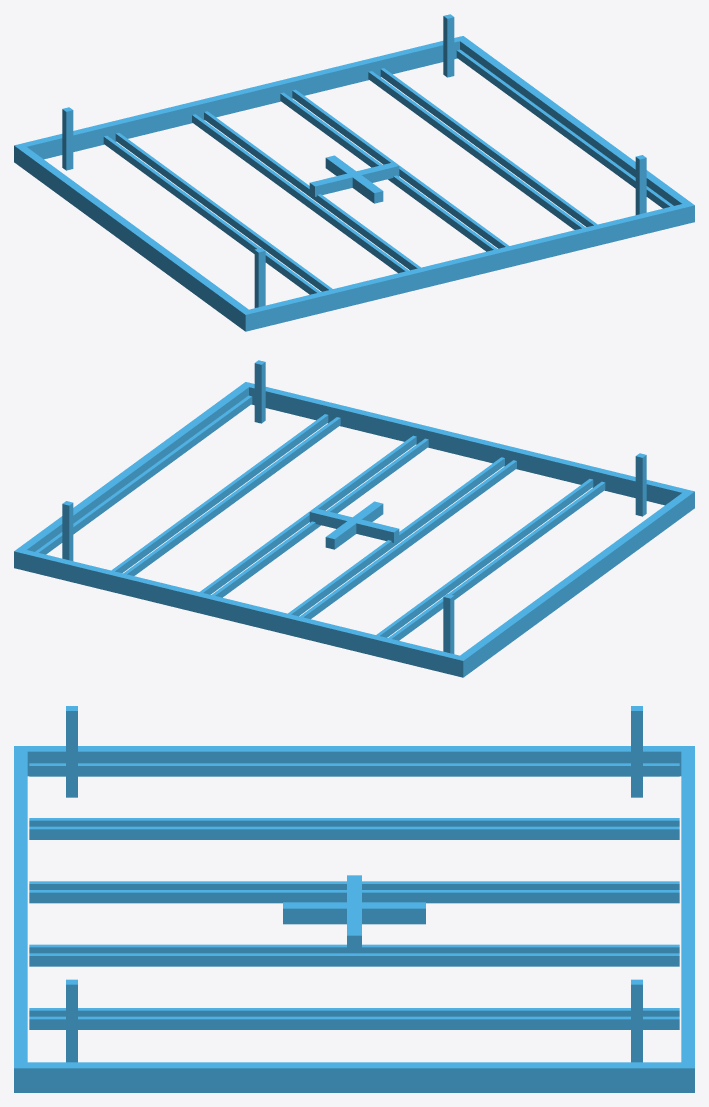
Rendered from slot-ghost.glb.
3 renders of one model, top to bottom at view 1: azimuth 30°, elevation 25°; view 2: azimuth 150°, elevation 25°; view 3: azimuth 270°, elevation 25°, orthographic. The views are drawn at different scales.
Parts seen in each view (by area): view 1: GEO-Rim-Y, GEO-Rim-Y.001, GEO-Rim-X, GEO-Rim-X.001, GEO-Plank-guide.002, GEO-Plank-guide.007, GEO-Plank-guide.008, GEO-Plank-guide.003, GEO-Plank-guide.004, GEO-Plank-guide.001, GEO-Plank-guide.006, GEO-Plank-guide.009 (+7 smaller); view 2: GEO-Rim-Y.001, GEO-Rim-Y, GEO-Rim-X, GEO-Rim-X.001, GEO-Plank-guide.002, GEO-Plank-guide.007, GEO-Plank-guide.008, GEO-Plank-guide.003, GEO-Plank-guide.004, GEO-Plank-guide.001, GEO-Plank-guide.006, GEO-Plank-guide.009 (+7 smaller); view 3: GEO-Rim-X.001, GEO-Rim-X, GEO-Plank-guide.002, GEO-Plank-guide.006, GEO-Plank-guide, GEO-Plank-guide.008, GEO-Plank-guide.004, GEO-Plank-guide.005, GEO-Plank-guide.001, GEO-Plank-guide.003, GEO-Plank-guide.007, GEO-Rim-Y (+7 smaller).
Part boxes in pixels (<box>): GEO-Rim-Y: <box>241,202,694,330</box>; GEO-Rim-Y.001: <box>14,36,466,164</box>; GEO-Rim-X: <box>14,144,253,331</box>; GEO-Rim-X.001: <box>455,36,694,222</box>; GEO-Plank-guide.002: <box>115,133,332,291</box>; GEO-Plank-guide.007: <box>368,71,585,229</box>; GEO-Plank-guide.008: <box>380,68,597,226</box>; GEO-Plank-guide.003: <box>192,114,408,273</box>; GEO-Plank-guide.004: <box>204,111,420,270</box>; GEO-Plank-guide.001: <box>103,135,320,294</box>; GEO-Plank-guide.006: <box>292,89,508,248</box>; GEO-Plank-guide.009: <box>456,49,673,208</box>; GEO-Rim-Y.001: <box>14,548,467,677</box>; GEO-Rim-Y: <box>243,382,694,511</box>; GEO-Rim-X: <box>455,490,694,677</box>; GEO-Rim-X.001: <box>14,382,253,569</box>; GEO-Plank-guide.002: <box>376,479,593,637</box>; GEO-Plank-guide.007: <box>123,417,340,575</box>; GEO-Plank-guide.008: <box>111,414,328,572</box>; GEO-Plank-guide.003: <box>300,460,516,619</box>; GEO-Plank-guide.004: <box>288,457,504,616</box>; GEO-Plank-guide.001: <box>388,481,605,640</box>; GEO-Plank-guide.006: <box>200,435,416,594</box>; GEO-Plank-guide.009: <box>35,395,252,554</box>; GEO-Rim-X.001: <box>14,1062,694,1092</box>; GEO-Rim-X: <box>14,746,694,776</box>; GEO-Plank-guide.002: <box>29,826,679,839</box>; GEO-Plank-guide.006: <box>29,953,679,966</box>; GEO-Plank-guide: <box>29,763,679,776</box>; GEO-Plank-guide.008: <box>29,1016,679,1029</box>; GEO-Plank-guide.004: <box>29,890,679,903</box>; GEO-Plank-guide.005: <box>29,944,679,953</box>; GEO-Plank-guide.001: <box>29,818,679,826</box>; GEO-Plank-guide.003: <box>29,881,679,889</box>; GEO-Plank-guide.007: <box>29,1008,679,1016</box>; GEO-Rim-Y: <box>14,746,27,1092</box>.
Size of the model in its own units: 2.24 by 0.28 by 2.
